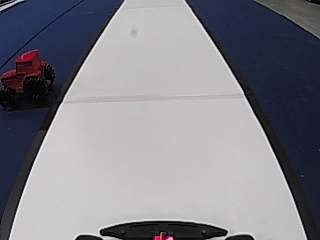tractor: (0, 48, 56, 110)
